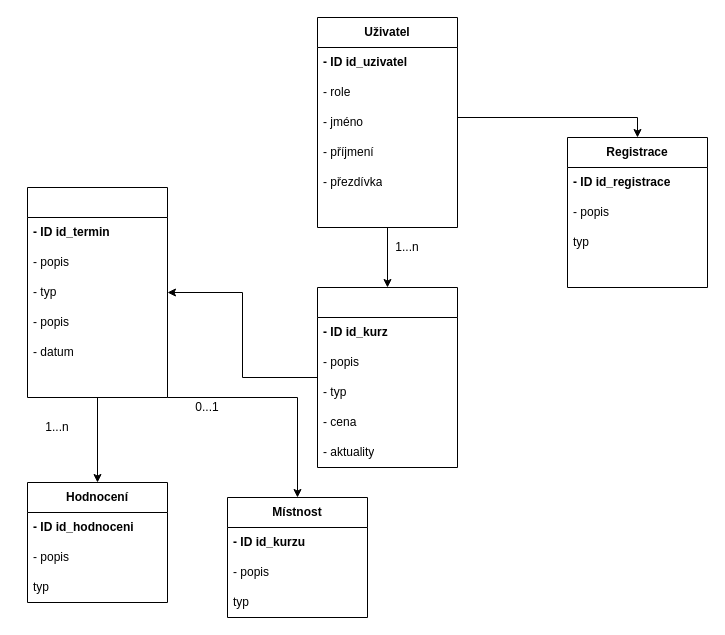
The diagram is 725 pixels wide and 635 high, and some of its shapes have lost their labels. The box of each missing label's shape, as (x1, y1, x2, y2) in pixels:
Termín: (26, 186, 168, 398)
Výukový kurz: (316, 286, 458, 468)
